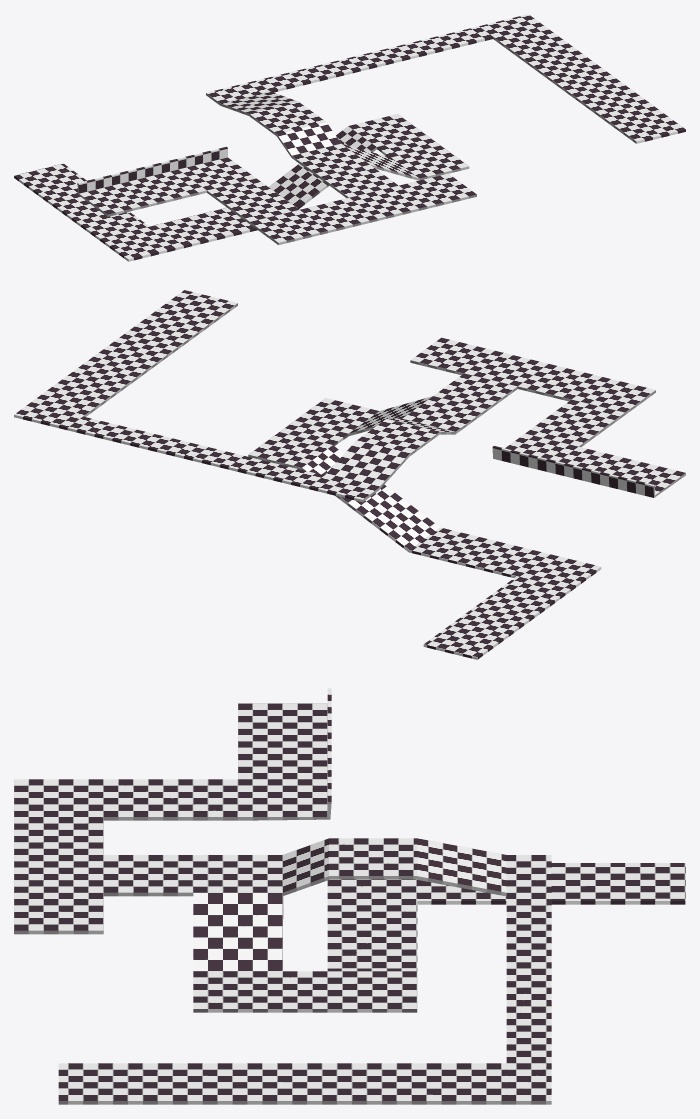
Rendered from B1_map.fbx.
3 views of the same model, one above another, from view 1: azimuth 30°, elevation 25°; view 2: azimuth 150°, elevation 25°; view 3: azimuth 270°, elevation 25° (orthographic). The views are drawn at different scales.
Visible parts, largest first — view 1: Plane.001; view 2: Plane.001; view 3: Plane.001.
Boxes of the visible parts, box(x1,y1,x2,y2) form: Plane.001: box(14, 14, 685, 261); Plane.001: box(14, 290, 685, 659); Plane.001: box(14, 688, 685, 1104).
Size of the model in its own units: 2310 by 385 by 1650.
